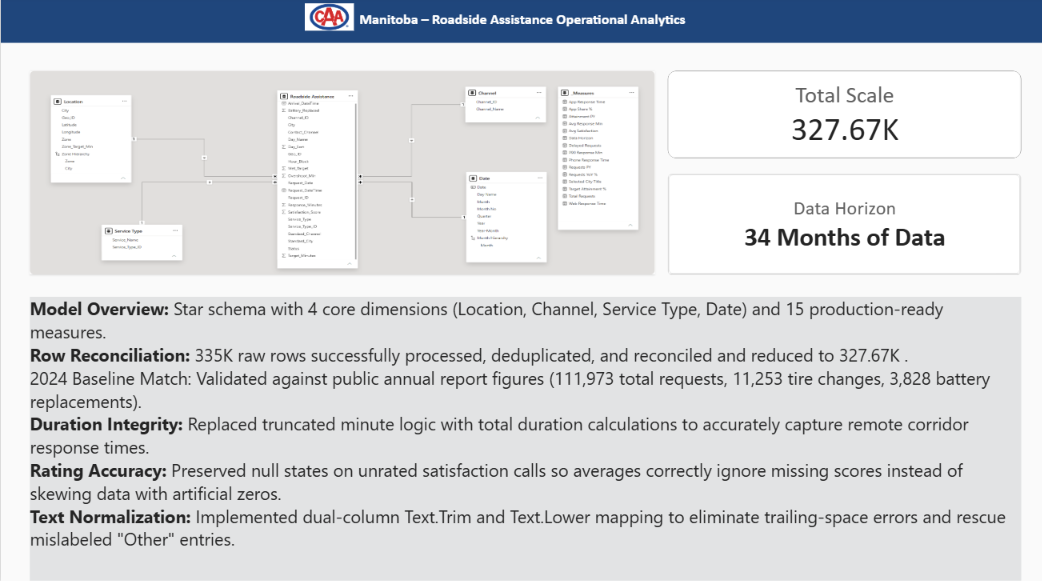

Layout of this report page (visuals, bound fields, positions):
{"tool":"powerbi","page":{"name":"Architecture Overview","canvas":[1920,1080],"ordinal":0},"visuals":[{"type":"image","box":[52.8,136.1,1150,375],"z":0},{"type":"cardVisual","fields":{"Data":["_Measures.Total Requests"]},"box":[1227.8,136.1,650,161.1],"z":1000},{"type":"cardVisual","fields":{"Data":["_Measures.Data Horizon"]},"box":[1227.8,325,650,186.1],"z":3000},{"type":"shape","box":[0,0,1919.5,84.4],"z":5000},{"type":"textbox","box":[0,23.5,1920.1,50.7],"z":6000},{"type":"image","box":[559.2,0,90.5,74.2],"z":9000},{"type":"textbox","box":[52.8,552.8,1825,527.8],"z":10003}]}

Visuals, with their boxes in screenshot pixels (x1, y1, x2, y2), scaled from the page's 1920x1080 canvas onto the 1042x581 screenshot:
image: 29 73 653 275
cardVisual - _Measures.Total Requests: 666 73 1019 160
cardVisual - _Measures.Data Horizon: 666 175 1019 275
shape: 0 0 1041 45
textbox: 0 13 1041 40
image: 303 0 353 40
textbox: 29 297 1019 580
